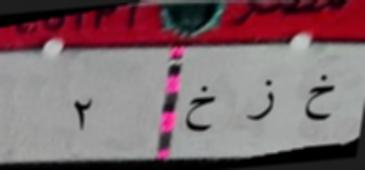2: (62, 94, 103, 135)
khaa: (300, 69, 340, 131), (180, 84, 222, 139)
zay: (241, 79, 282, 129)
